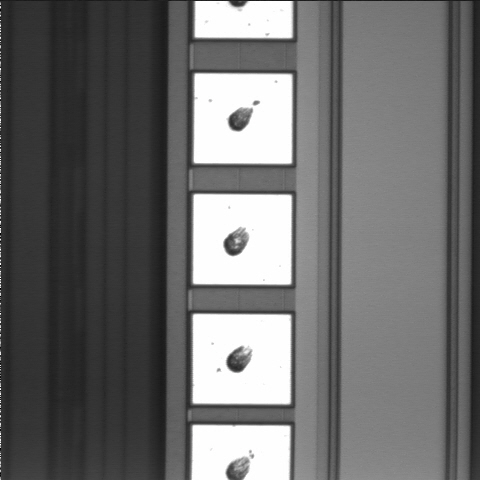pad: (193, 194, 292, 285), (194, 74, 292, 164), (193, 314, 291, 404)
